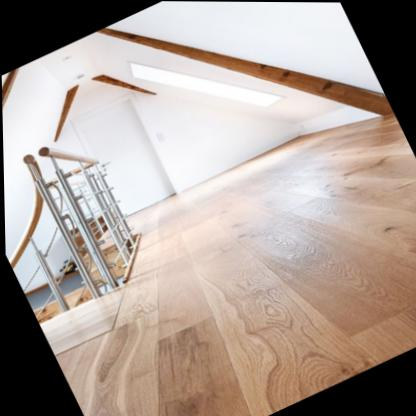Wooden floor: (41, 108, 416, 416)
